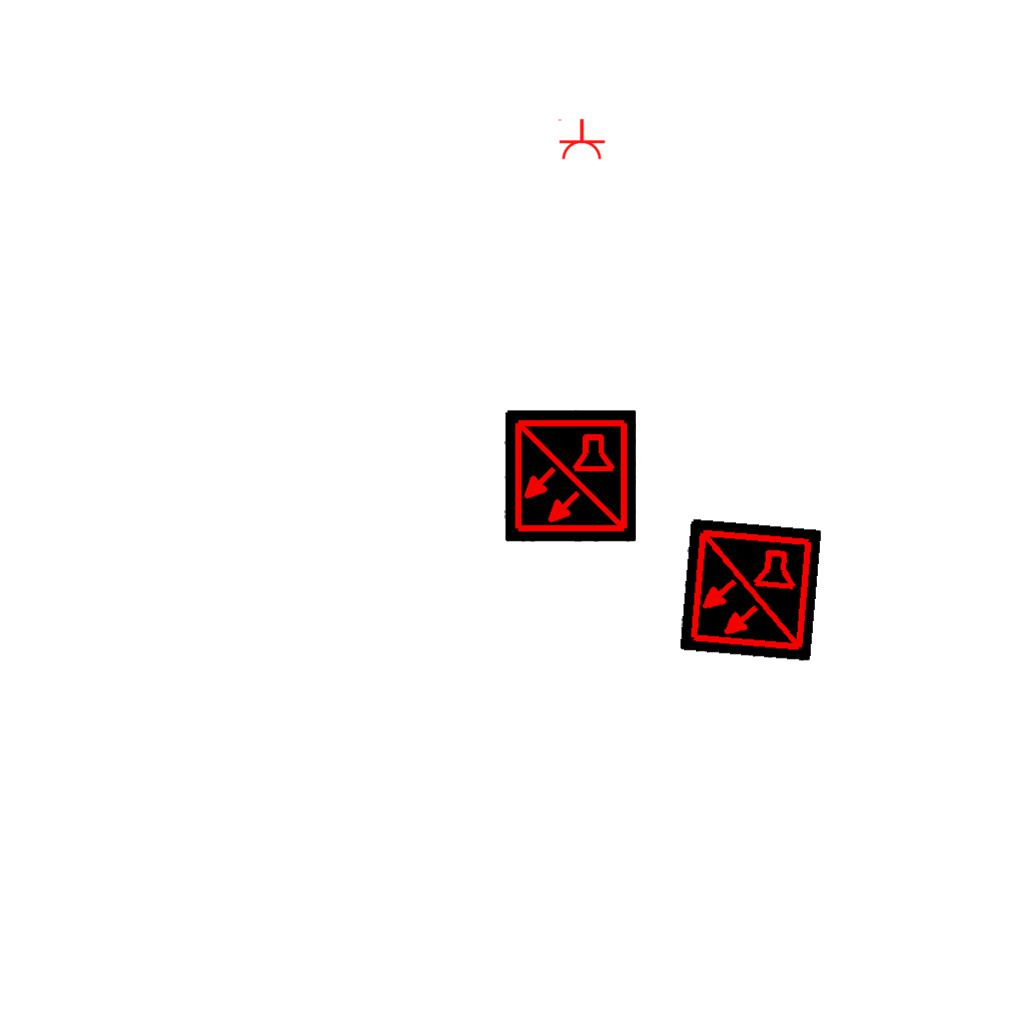OKW_Multisensormelder_(Kombination_optischer_Rauch-Kahlenmonoxid_Waerme-Melder): (678, 518, 822, 662), (504, 410, 636, 542)
Schukosteckdose_einfach: (556, 118, 606, 161)
